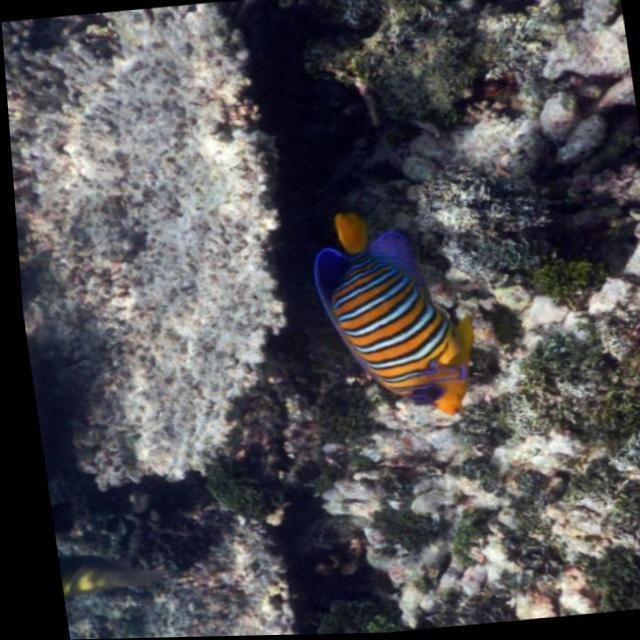Dead Coral: (6, 27, 332, 500)
